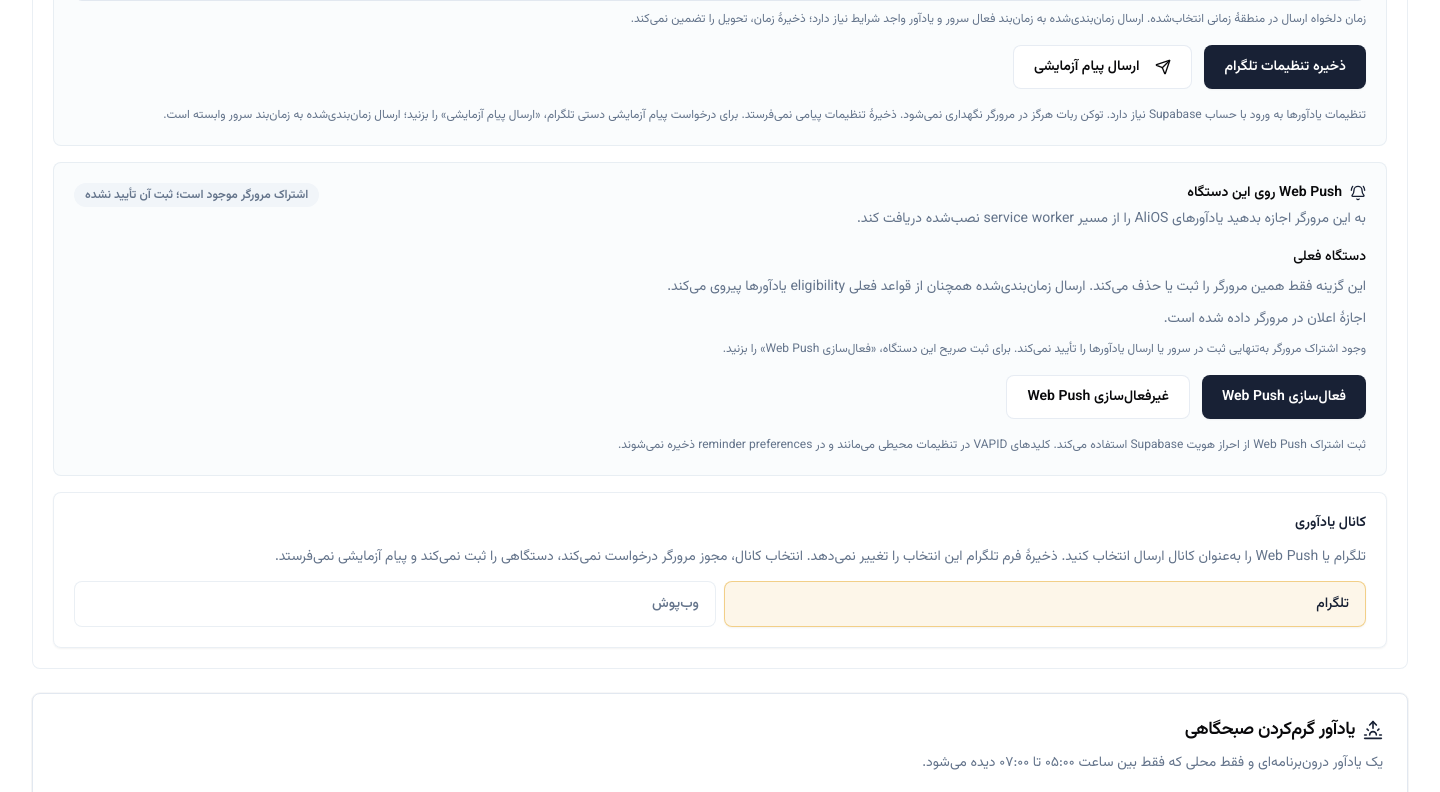
Test case: bilingual Settings safety copy › reports explicit Push registration separately from delivery and preference saving in fa
(page scrolled)
Expected: the text "ثبت اشتراک در این نشست تأیید شد" is not shown
Click the button "فعال‌سازی Web Push".
click(1284, 397)  # box [1202,375,1366,419]
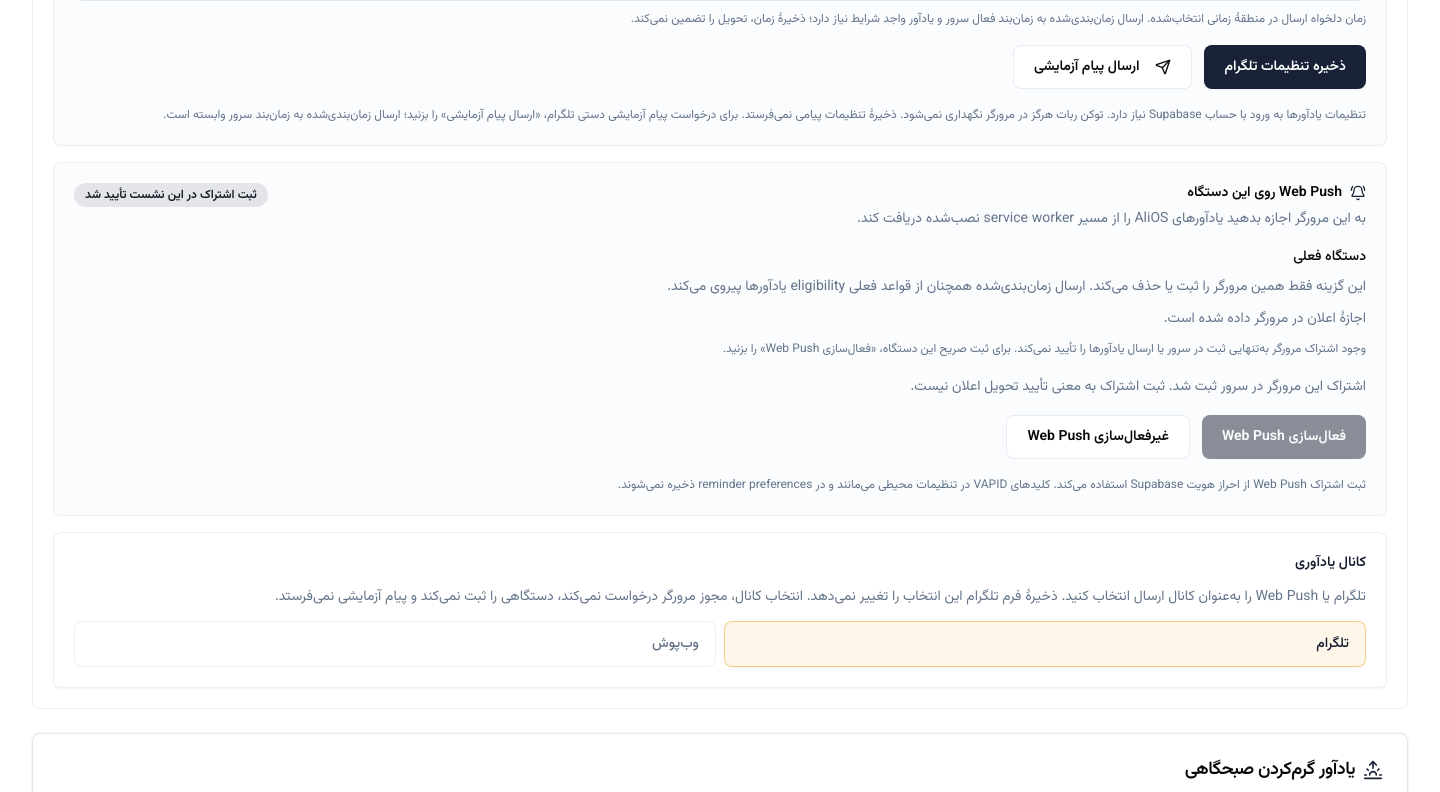
Expected: the text "ثبت اشتراک در این نشست تأیید شد" is shown, [74,183,268,207]
Expected: the text "اشتراک این مرورگر در سرور ثبت شد. ثبت اشتراک به معنی تأیید تحویل اعلان نیست." is shown, [910,376,1366,398]
